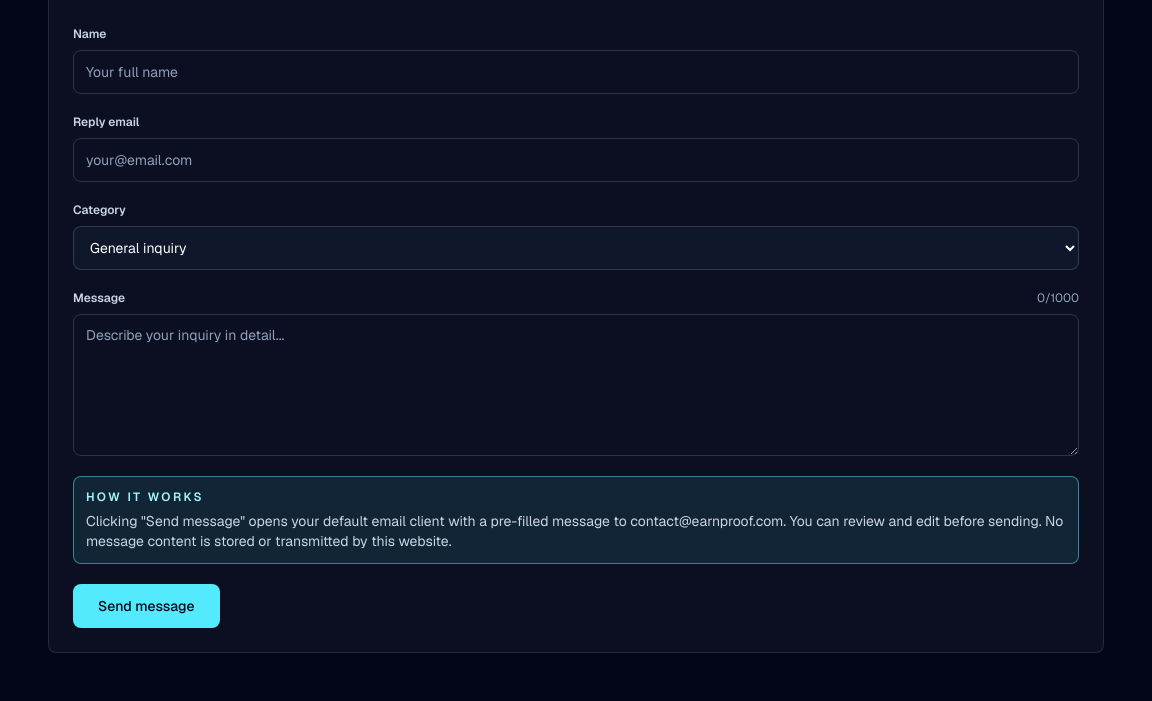
Test: ContactPage › displays character count for message field
(page scrolled)
Type "Hello world" into the text box labelled "Message" at (576, 385), box [73,314,1079,456]
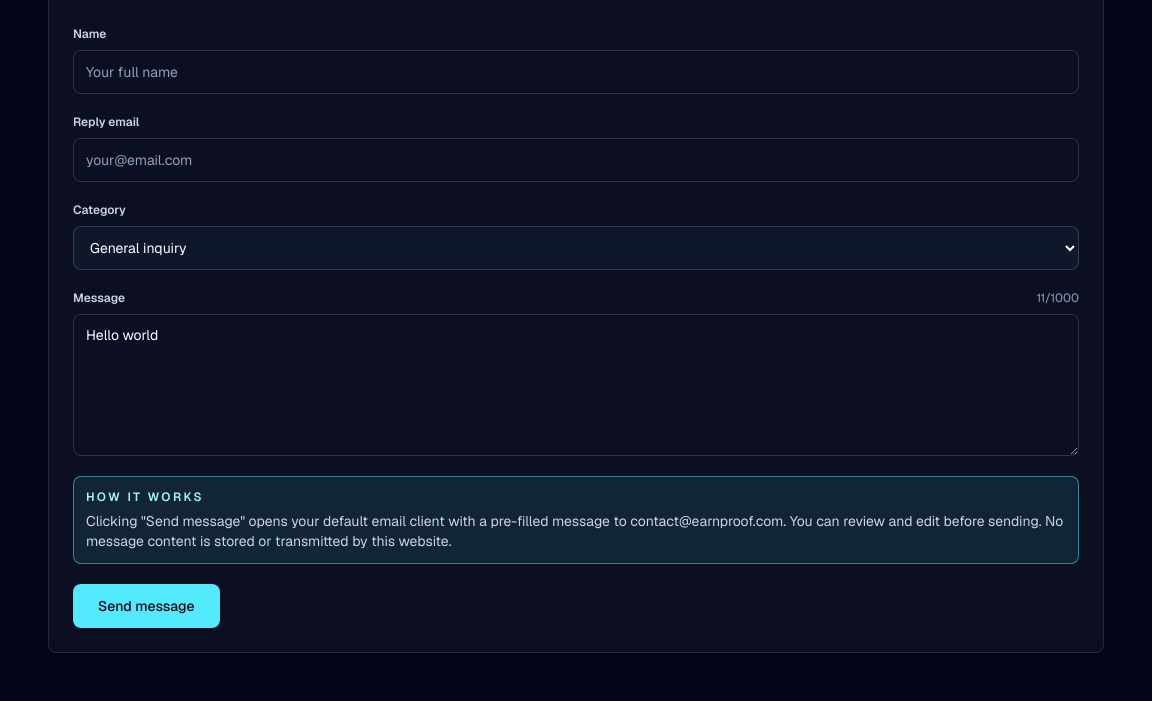
Now the text "11/1000" is shown, box [1036,290,1079,306]
